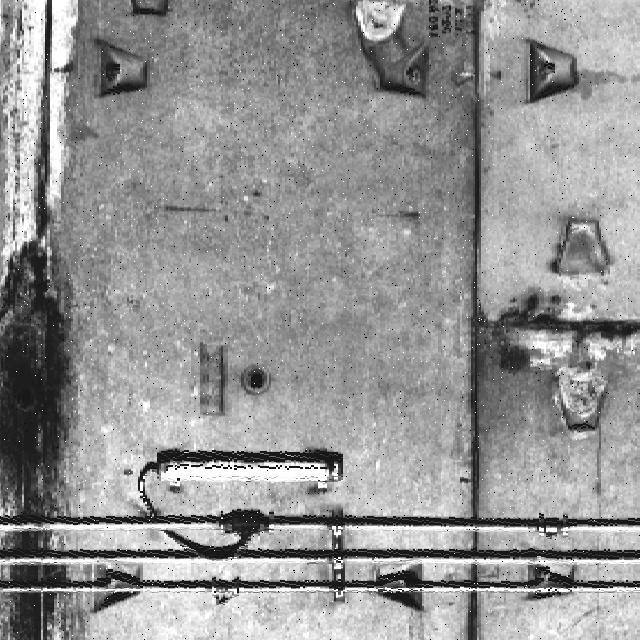leakage: (1, 0, 87, 639)
